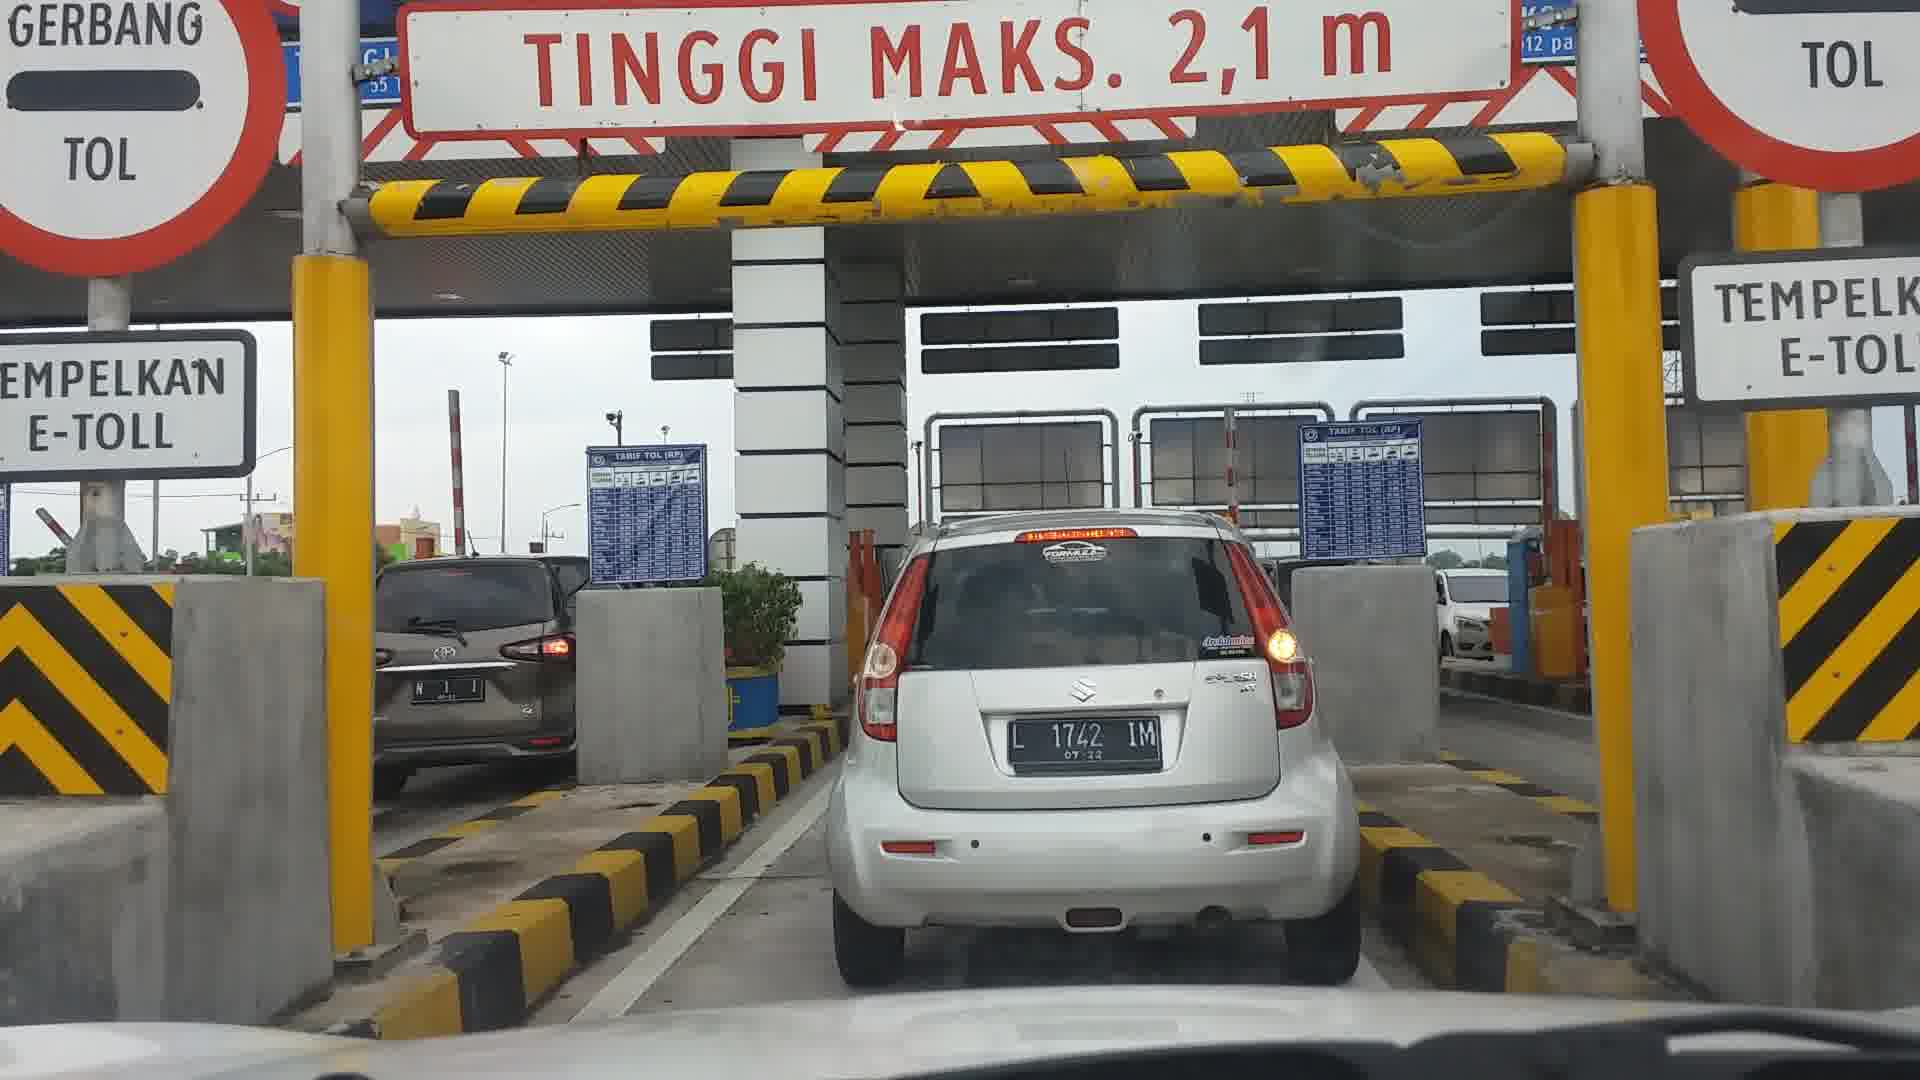plate_positive: (1007, 716, 1163, 775)
